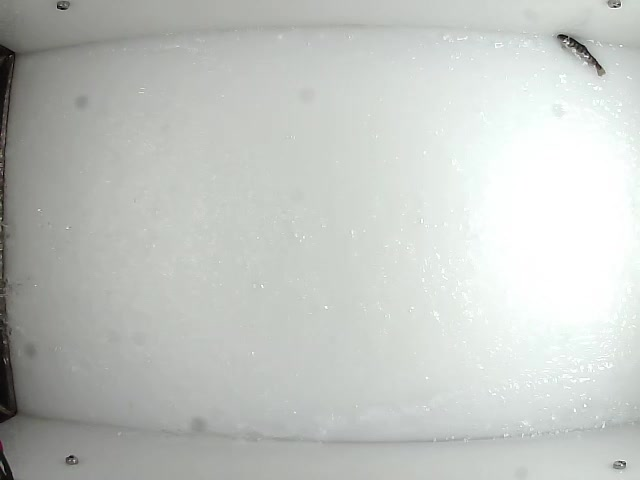fish: (556, 34, 608, 79)
